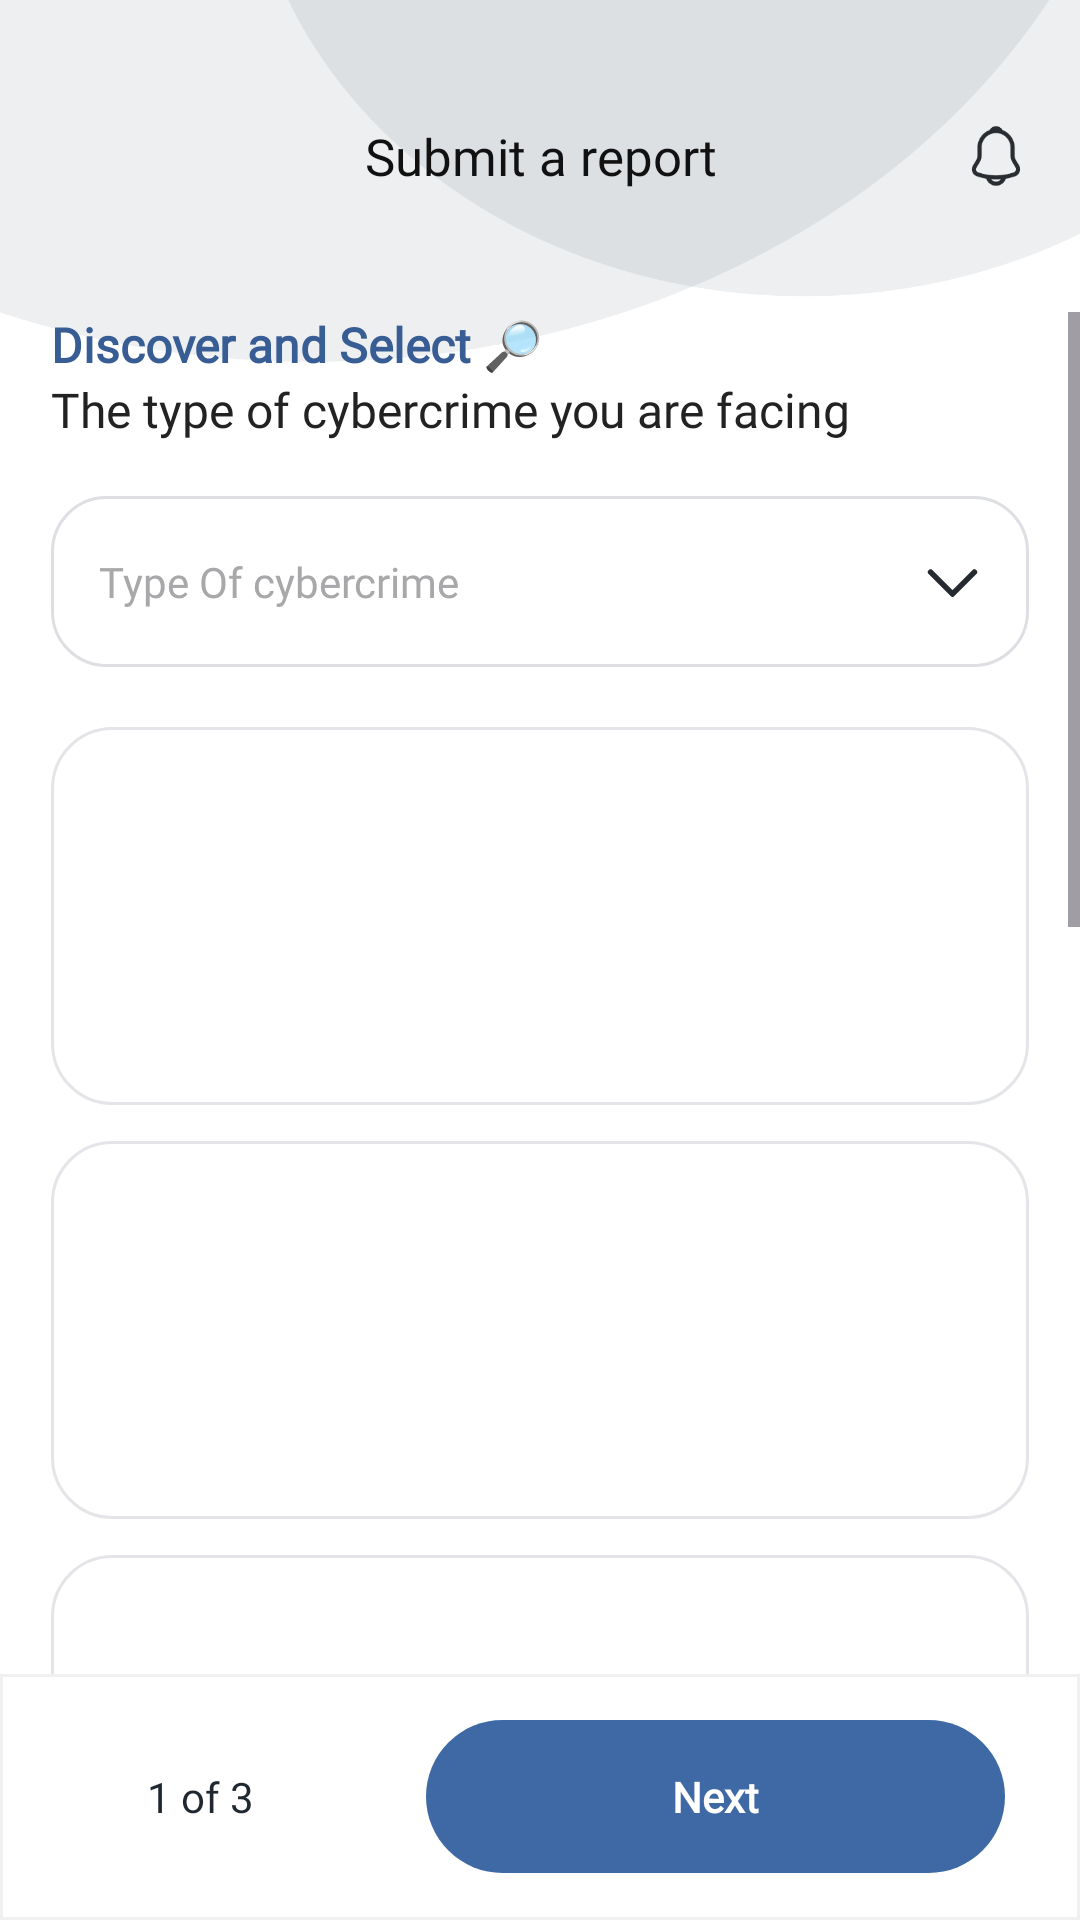

Where to tap for icons on this 1080px x 1920px app screen, as (x,y):
Notifications: (996,156)
Select: (952,583)
